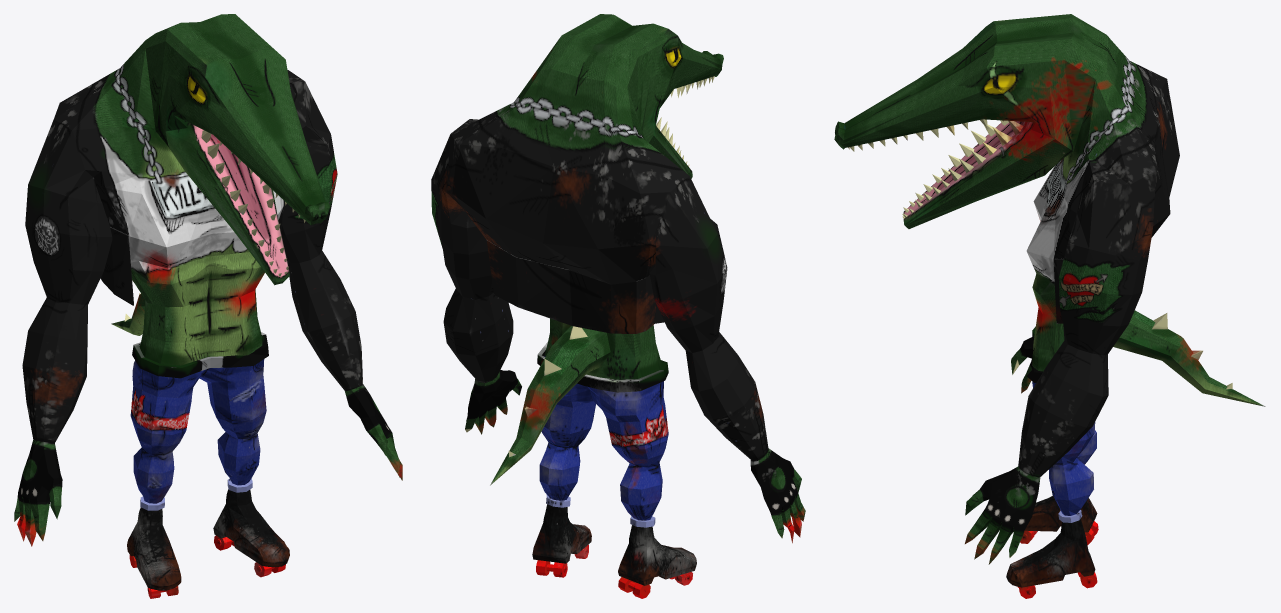
File: cocodrilaBonesSelect_000000.obj
3 renders of one model, left to right at view 1: azimuth 30°, elevation 25°; view 2: azimuth 150°, elevation 25°; view 3: azimuth 270°, elevation 25°, orthographic.
Visible parts, largest first — view 1: Crocodile.002_Cylinder.002; view 2: Crocodile.002_Cylinder.002; view 3: Crocodile.002_Cylinder.002.
Part boxes in pixels (left/top/right/bottom): Crocodile.002_Cylinder.002: left=14, top=14, right=402, bottom=598; Crocodile.002_Cylinder.002: left=431, top=14, right=805, bottom=598; Crocodile.002_Cylinder.002: left=834, top=14, right=1265, bottom=598.
Bounding box in the file's own units: 4.5 × 6.71 × 4.84.
